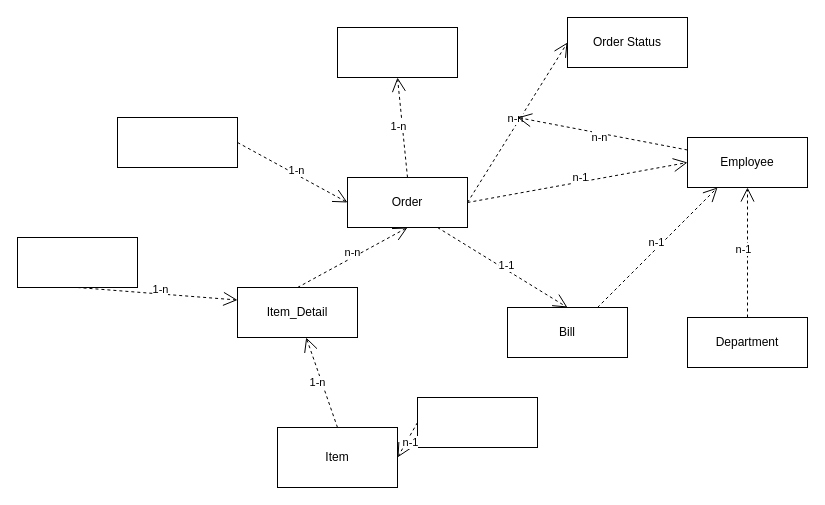
This 825x505 diagram has some shape labels left out. Here are the shapes that lost their labels. From the top down, the centre of each, then its label:
At point (397, 52): "Payment_Method".
At point (177, 142): "Customer".
At point (77, 262): "Size".
At point (477, 422): "Item_Group".
